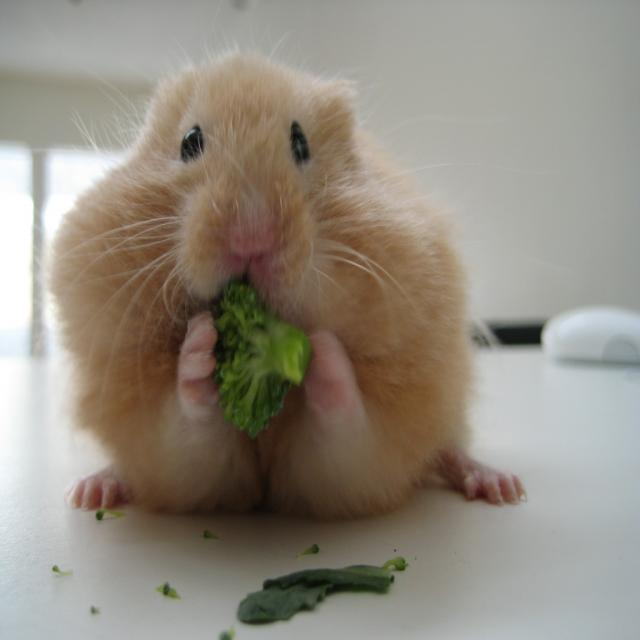rat: (46, 45, 531, 520)
